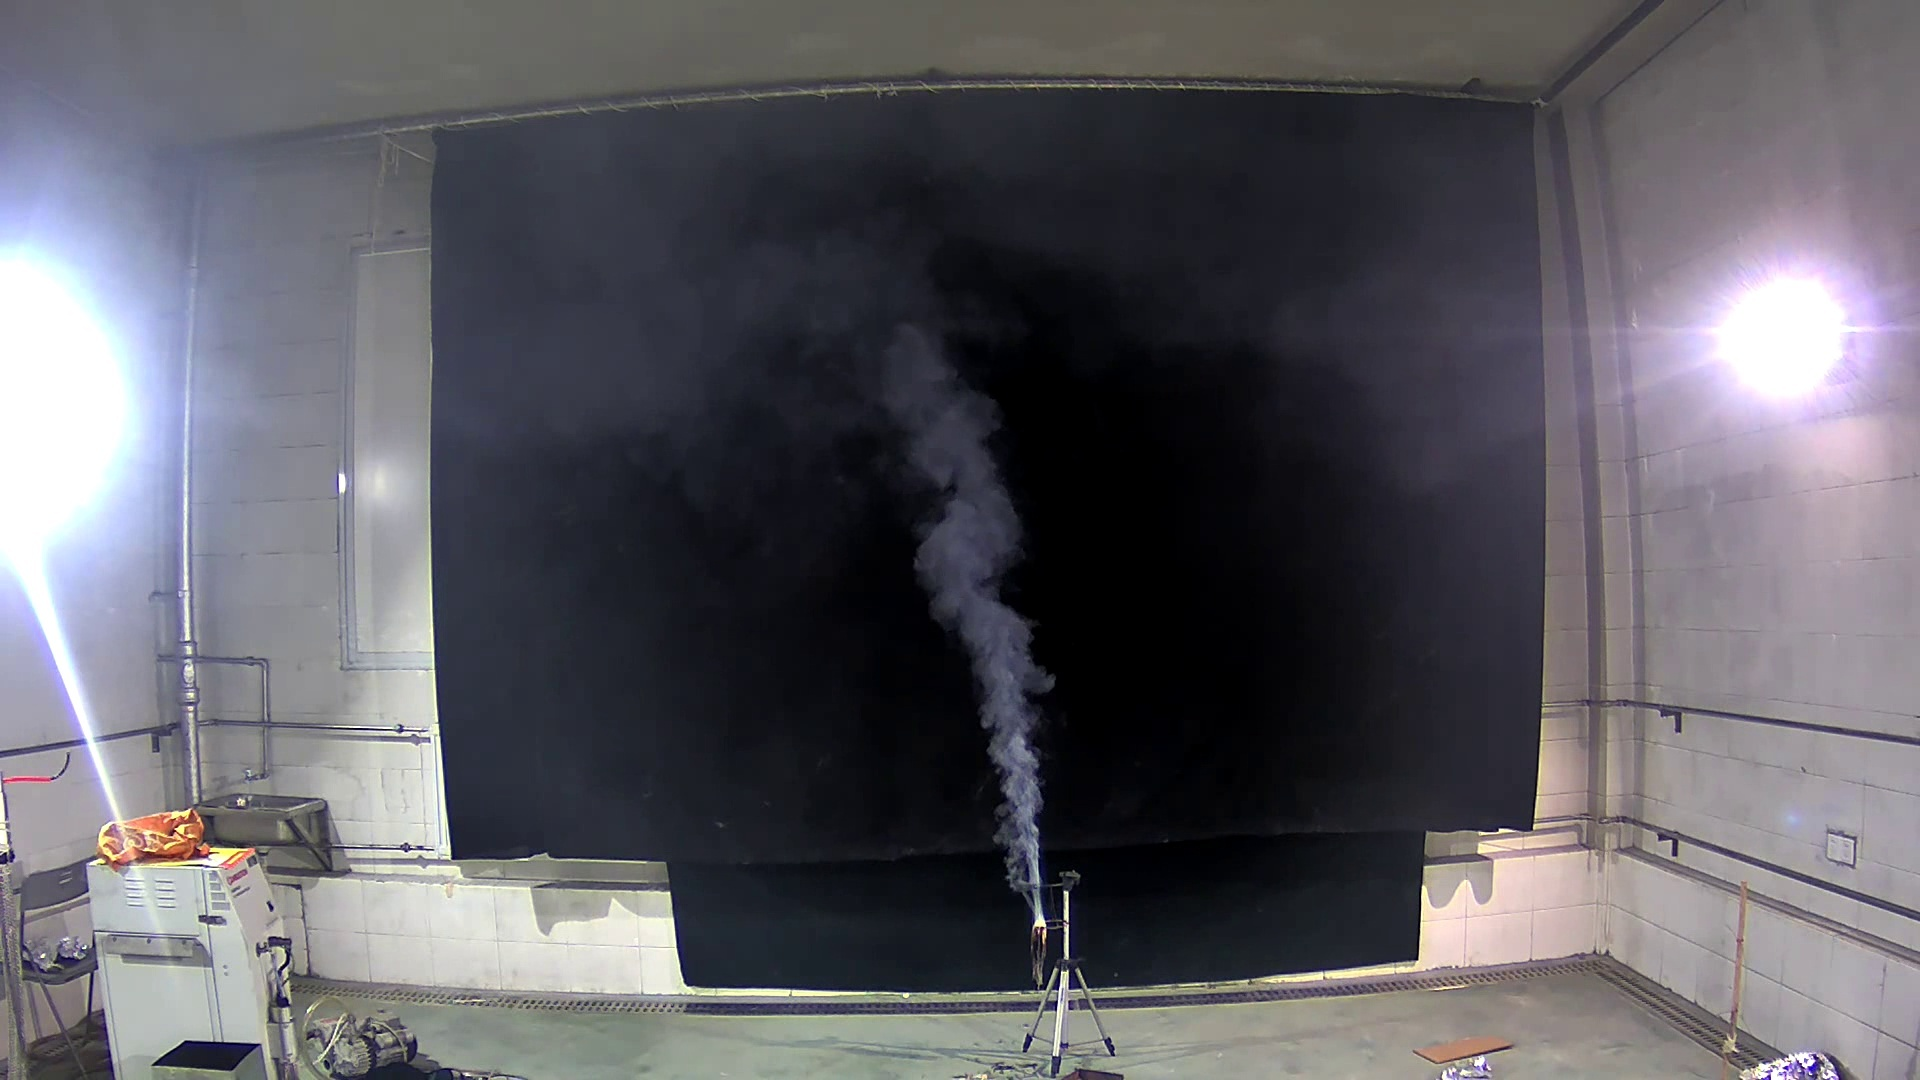smoke: (814, 237, 1056, 876)
